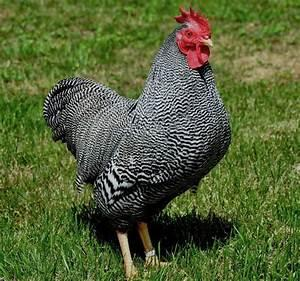hen: (41, 5, 232, 280)
